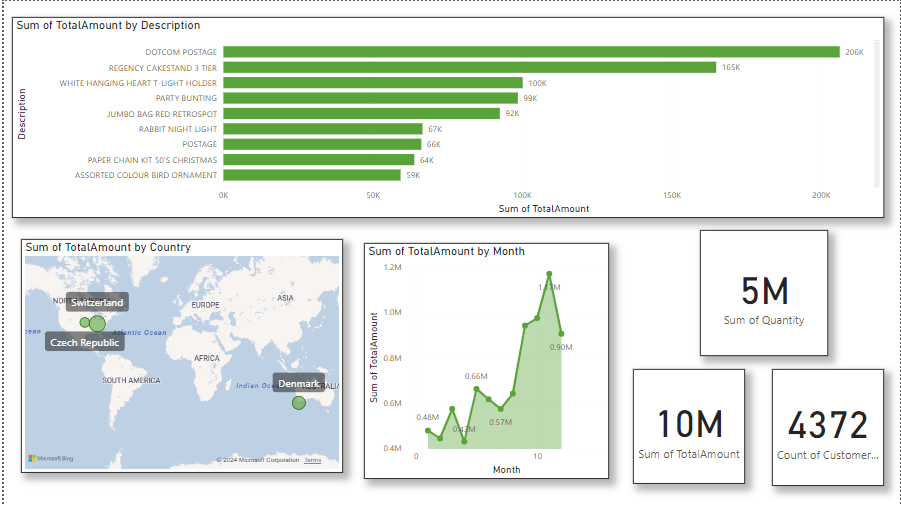

The page's visual inventory and layout, read from the dashboard file:
{"tool":"powerbi","page":{"name":"Page 1","canvas":[1280,720],"ordinal":0},"visuals":[{"type":"card","fields":{"Values":["Sum(online_retail_cleaned.Quantity)"]},"box":[994.3,327.1,182.9,180],"z":0},{"type":"card","fields":{"Values":["Sum(online_retail_cleaned.TotalAmount)"]},"box":[898.6,525.7,160,164.3],"z":1000},{"type":"lineChart","fields":{"Category":["dim_date.Month"],"Y":["Sum(online_retail_cleaned.TotalAmount)"]},"box":[514.3,345.7,350,337.1],"z":2000},{"type":"card","fields":{"Values":["CountNonNull(dim_customer.CustomerID)"]},"box":[1097.1,525.7,160,167.1],"z":3000},{"type":"barChart","fields":{"Category":["dim_product.Description"],"Y":["Sum(online_retail_cleaned.TotalAmount)"]},"box":[11.4,22.9,1245.7,287.1],"z":3001},{"type":"map","fields":{"Category":["dim_customer.Country"],"Size":["Sum(online_retail_cleaned.TotalAmount)"]},"box":[24.3,340,460,334.3],"z":3002}]}

Visuals, with their boxes in screenshot pixels (x1, y1, x2, y2), scaled from the page's 1280x720 canvas onto the 901x505 screenshot:
card - Sum(online_retail_cleaned.Quantity): bbox=[700, 229, 829, 356]
card - Sum(online_retail_cleaned.TotalAmount): bbox=[633, 369, 745, 484]
lineChart - dim_date.Month x Sum(online_retail_cleaned.TotalAmount): bbox=[362, 242, 608, 479]
card - CountNonNull(dim_customer.CustomerID): bbox=[772, 369, 885, 486]
barChart - dim_product.Description x Sum(online_retail_cleaned.TotalAmount): bbox=[8, 16, 885, 217]
map - dim_customer.Country x Sum(online_retail_cleaned.TotalAmount): bbox=[17, 238, 341, 473]
